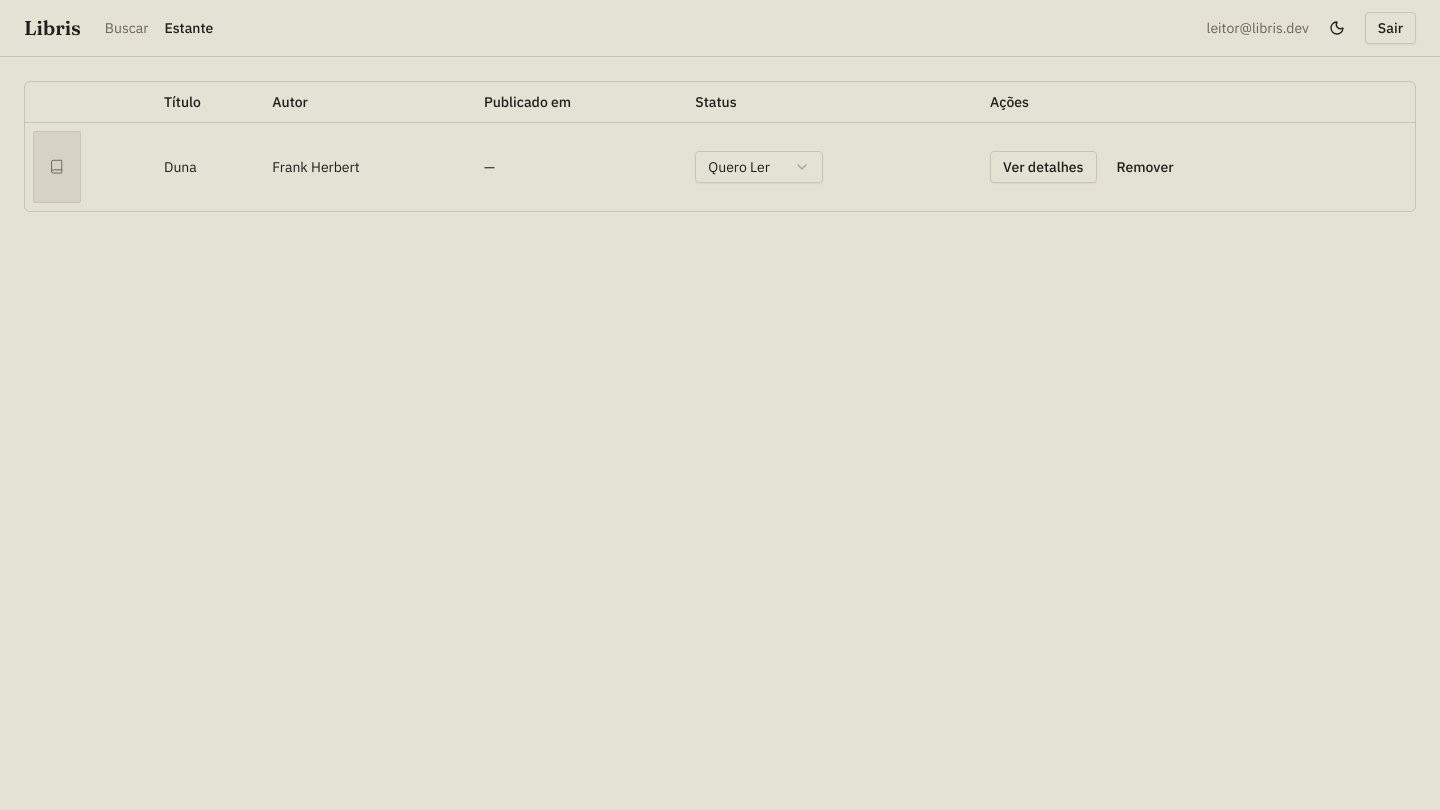
Integração: logout preserva a estante › logout limpa a sessão (authStore) mas não apaga a estante (shelfStore)
The width and height of the screenshot is (1440, 810).
Expected: the text "Duna" is shown, [156,122,264,210]
Click the button "Sair".
click(1390, 28)  # box [1365,12,1416,44]
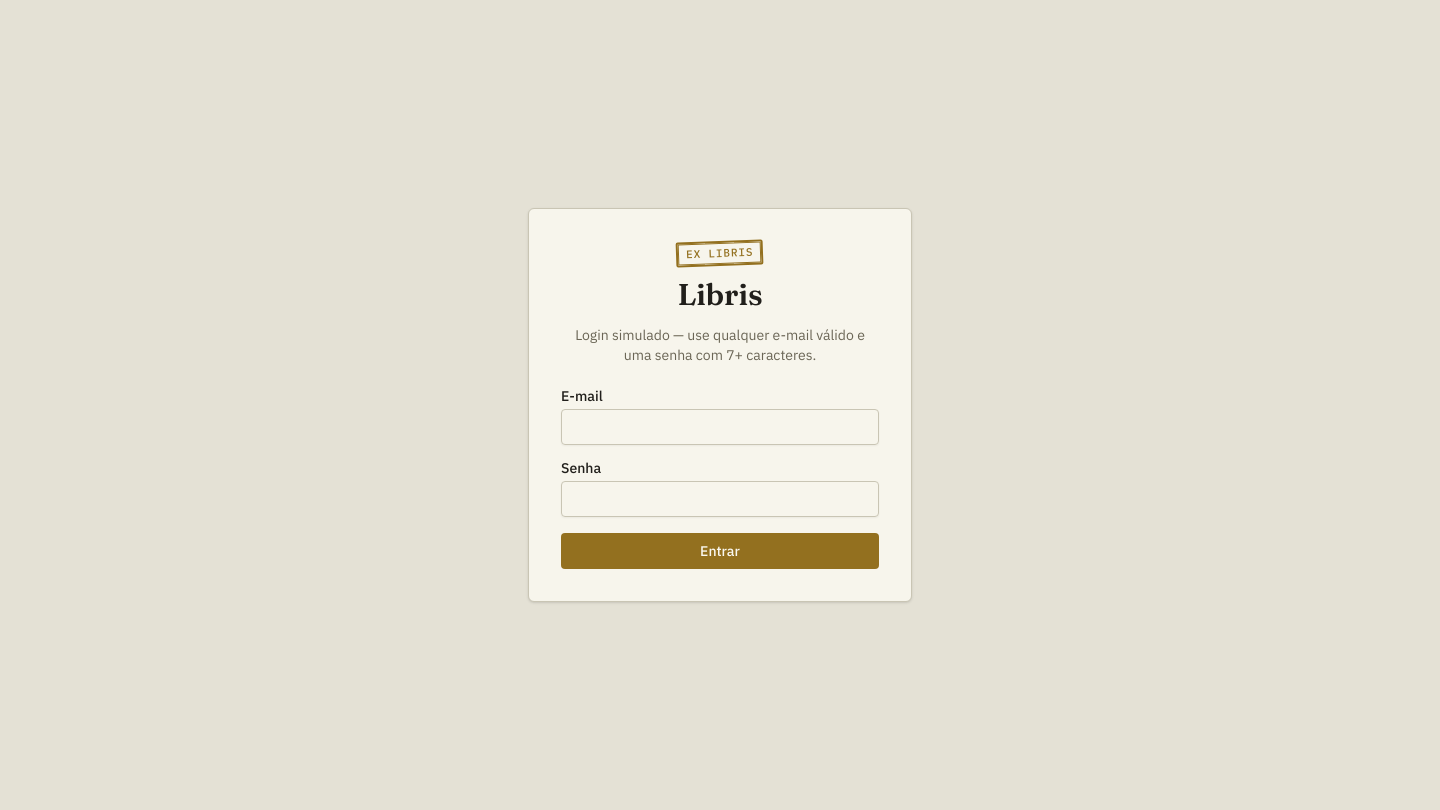
Now the field labelled "E-mail" is shown, box [561,409,879,445]
